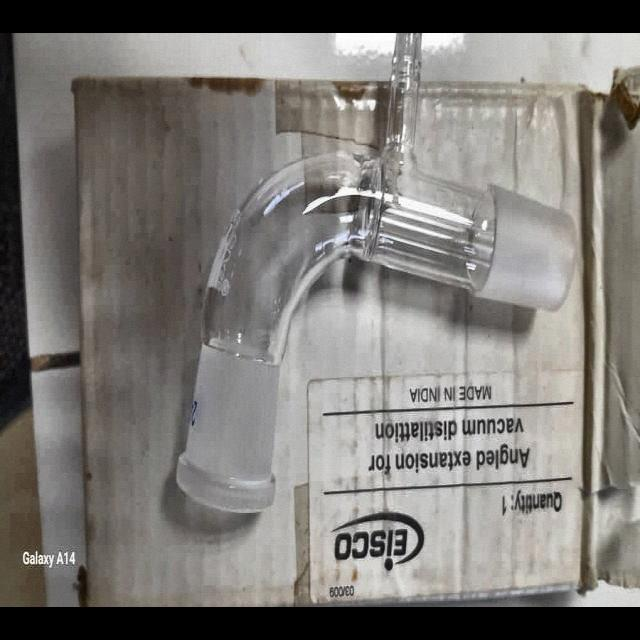Angled Extension for Vacuum Distillation: (174, 36, 580, 517)
